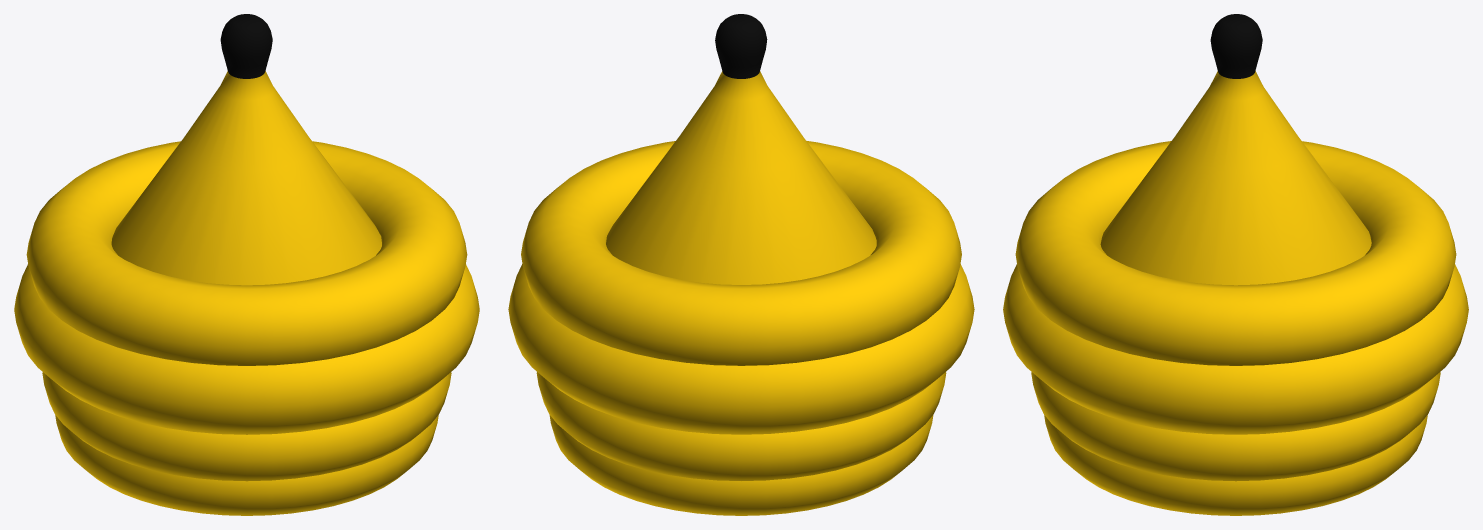
File: BeeBoom.fbx
3 views of the same model, side by side, from view 1: azimuth 30°, elevation 25°; view 2: azimuth 150°, elevation 25°; view 3: azimuth 270°, elevation 25° (orthographic).
Parts seen in each view (by area): view 1: Torus.012; view 2: Torus.012; view 3: Torus.012.
Part boxes in pixels (x1,y1,x2,y2): Torus.012: (14, 14, 479, 515); Torus.012: (508, 14, 974, 515); Torus.012: (1003, 14, 1468, 515).
Size of the model in its own units: 242 by 245 by 242.
